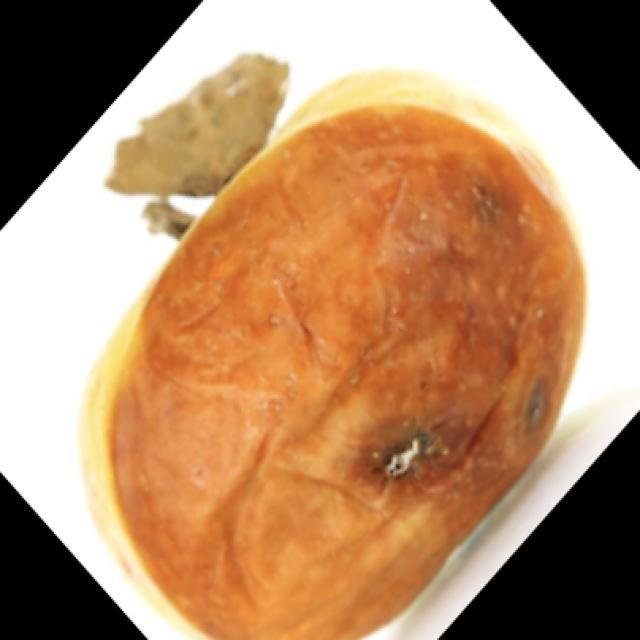Rotten: (82, 75, 583, 640)
